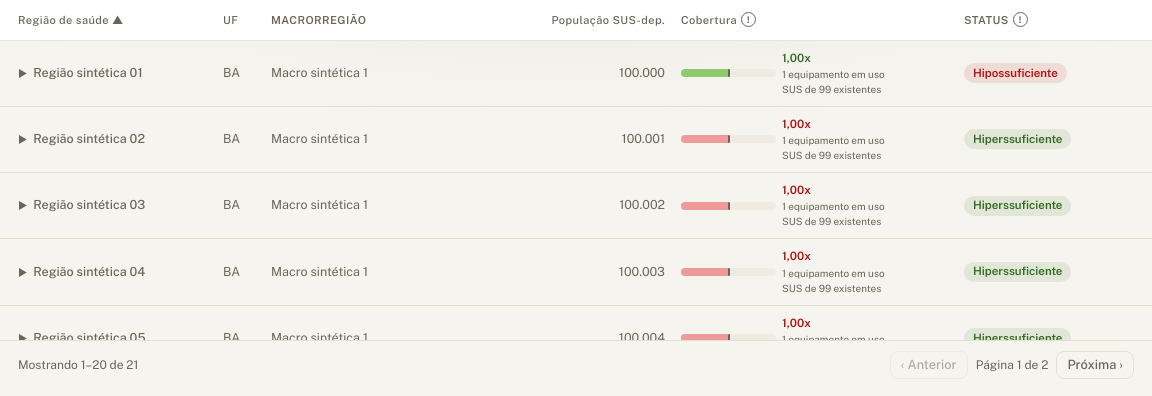
Test: cobertura por região e município com consultas reais › ordena pelo cabeçalho acessível sem disparar outra consulta
The image size is (1152, 396).
Click the button "Região de saúde ▲" at (71, 20), box [18,12,124,28]
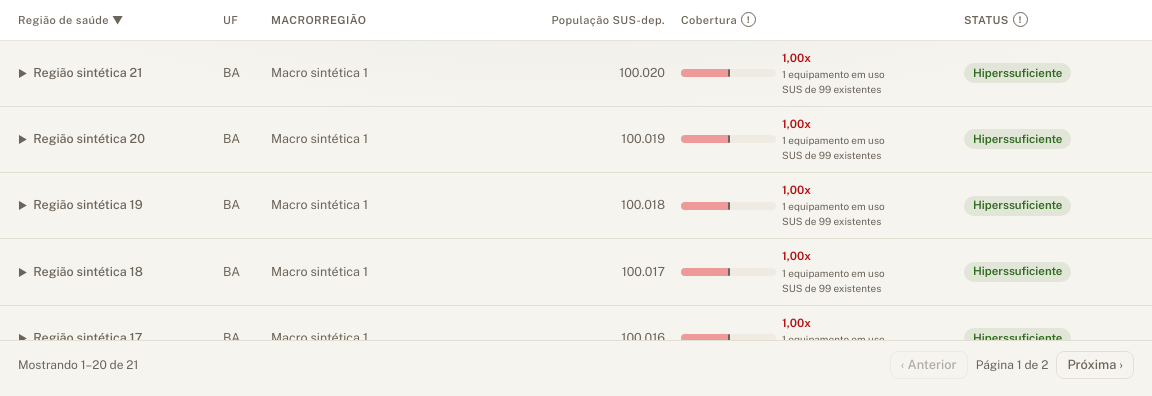
Expected: the text "▶ Região sintética 21" is shown, [0,40,217,106]
